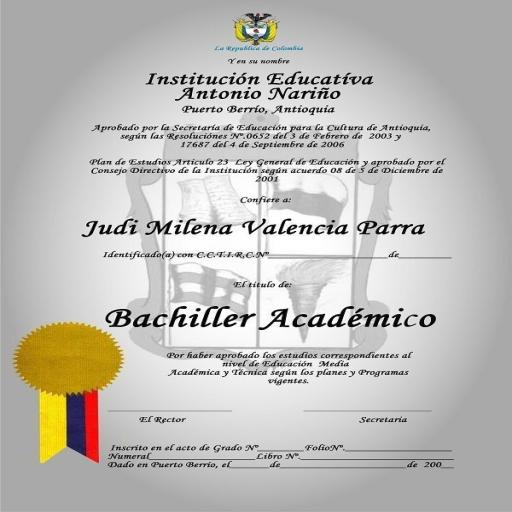bachillerato: (98, 300, 454, 336)
diploma: (2, 0, 511, 511)
institucion: (132, 70, 405, 114)
nombre: (77, 213, 444, 249)
